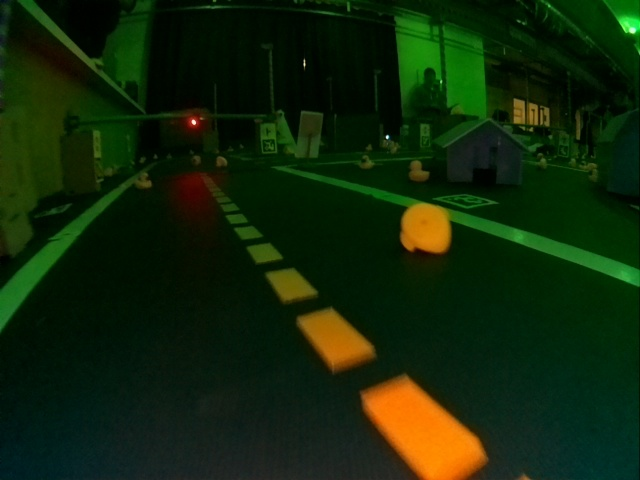Duckie: (401, 204, 449, 252), (409, 161, 430, 182), (136, 175, 152, 189), (360, 156, 374, 169), (216, 156, 227, 166), (191, 156, 201, 166)
Intersection sign: (261, 125, 275, 138)
QR code: (437, 192, 488, 211), (263, 140, 275, 152)
